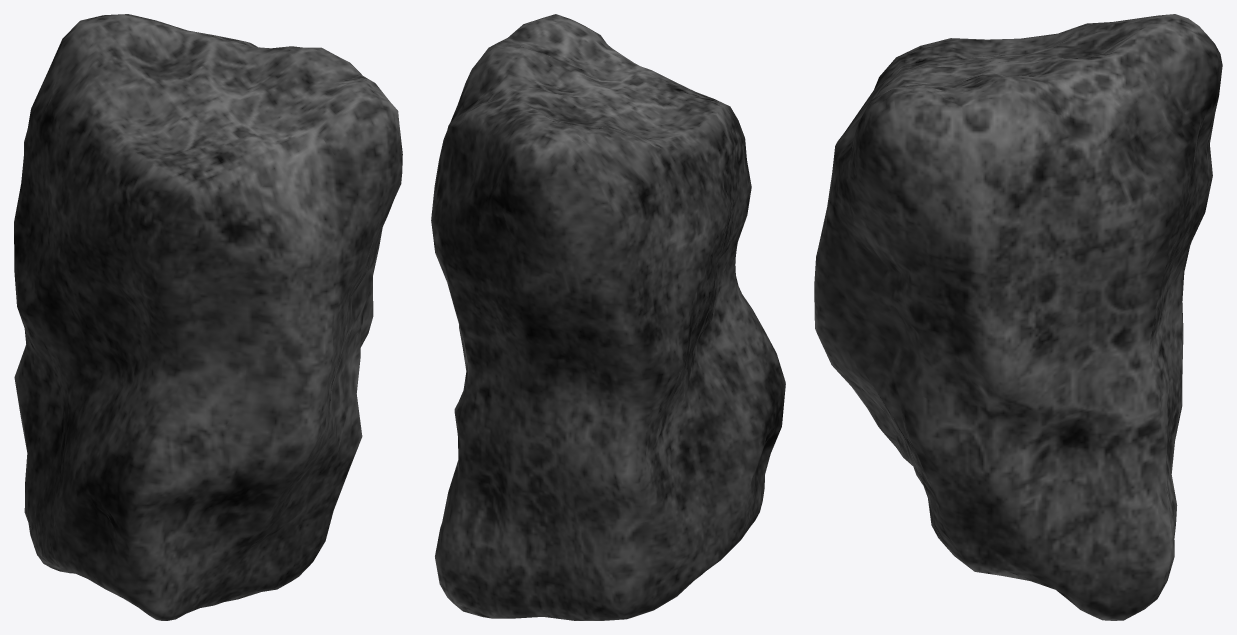
Rendered from Asteroid_9.fbx.
The picture shows the model from 3 angles, left to right: view 1: azimuth 30°, elevation 25°; view 2: azimuth 150°, elevation 25°; view 3: azimuth 270°, elevation 25°; orthographic projection. The views are drawn at different scales.
Parts seen in each view (by area): view 1: Asteroid_no_9; view 2: Asteroid_no_9; view 3: Asteroid_no_9.
Boxes of the visible parts, x1,y1,x2,y2 form: Asteroid_no_9: [14, 14, 402, 620]; Asteroid_no_9: [431, 14, 785, 620]; Asteroid_no_9: [814, 14, 1222, 620].
Size of the model in its own units: 529 by 909 by 610.
1 material, 1 textured.
